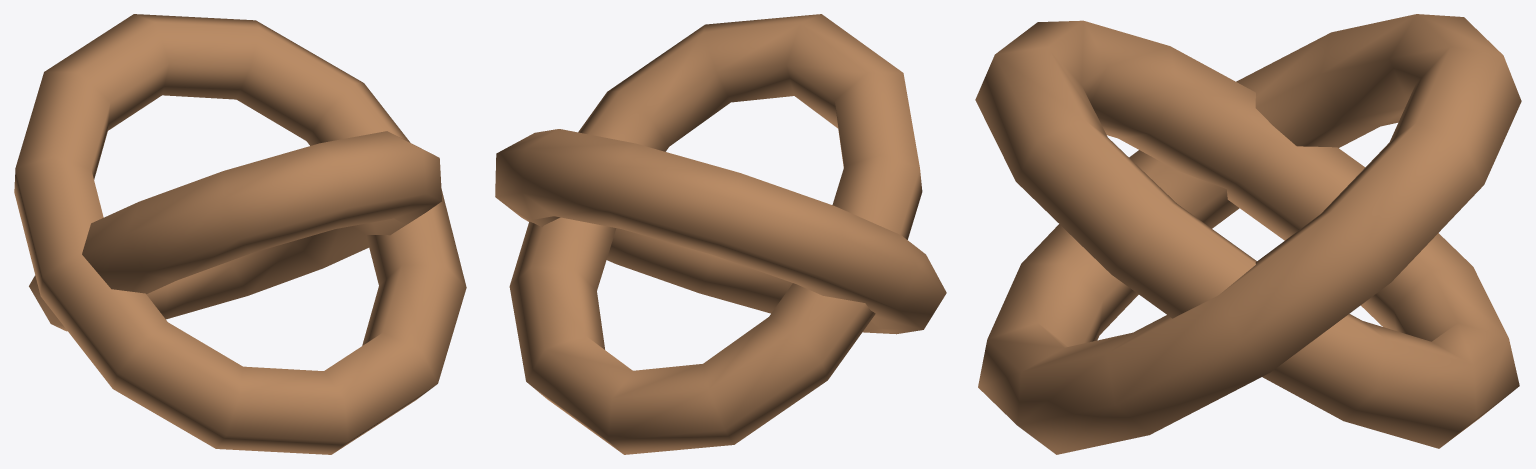
Rendered from SM_RopeDock_2.fbx.
The picture shows the model from 3 angles, left to right: view 1: azimuth 30°, elevation 25°; view 2: azimuth 150°, elevation 25°; view 3: azimuth 270°, elevation 25°; orthographic projection. The views are drawn at different scales.
Parts seen in each view (by area): view 1: SM_RopeDock_2; view 2: SM_RopeDock_2; view 3: SM_RopeDock_2.
Part boxes in pixels (left/top/right/bottom): SM_RopeDock_2: left=14, top=14, right=466, bottom=454; SM_RopeDock_2: left=495, top=14, right=946, bottom=454; SM_RopeDock_2: left=975, top=14, right=1521, bottom=454.
Bounding box in the file's own units: 0.6263 × 0.4582 × 0.61.
